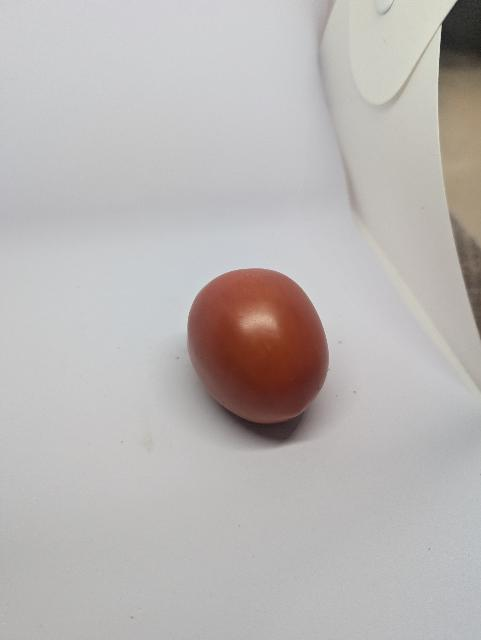red: (176, 259, 336, 445)
